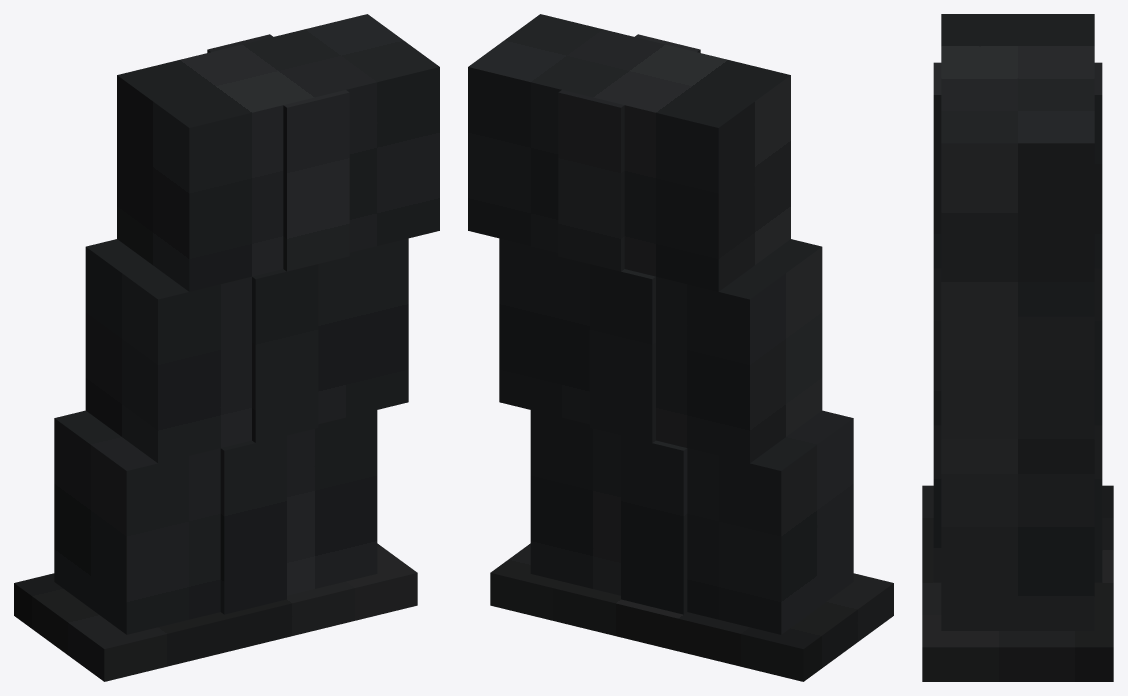
Rendered from SisimSv9_Magazine.glb.
3 views of the same model, side by side, from view 1: azimuth 30°, elevation 25°; view 2: azimuth 150°, elevation 25°; view 3: azimuth 270°, elevation 25° (orthographic). The views are drawn at different scales.
Parts seen in each view (by area): view 1: Magazine step 0, Magazine step 1, Magazine step 2, Magazine floor plate, Magazine rib 0 L, Magazine rib 2 L, Magazine rib 1 L; view 2: Magazine step 0, Magazine step 1, Magazine step 2, Magazine floor plate, Magazine rib 0 R, Magazine rib 2 R, Magazine rib 1 R; view 3: Magazine step 0, Magazine step 1, Magazine step 2, Magazine floor plate, Magazine rib 0 L, Magazine rib 0 R, Magazine rib 2 L, Magazine rib 2 R, Magazine rib 1 L, Magazine rib 1 R.
Part boxes in pixels (x1,y1,x2,y2): Magazine step 0: (117, 14, 439, 291); Magazine step 1: (85, 238, 408, 463); Magazine step 2: (54, 410, 377, 634); Magazine floor plate: (14, 543, 417, 681); Magazine rib 0 L: (283, 90, 349, 271); Magazine rib 2 L: (220, 435, 286, 614); Magazine rib 1 L: (252, 264, 318, 442); Magazine step 0: (468, 14, 790, 291); Magazine step 1: (499, 238, 822, 463); Magazine step 2: (530, 410, 853, 634); Magazine floor plate: (490, 543, 893, 681); Magazine rib 0 R: (558, 90, 624, 271); Magazine rib 2 R: (621, 435, 687, 614); Magazine rib 1 R: (589, 264, 655, 442); Magazine step 0: (941, 14, 1094, 316); Magazine step 1: (941, 316, 1094, 473); Magazine step 2: (941, 474, 1094, 630); Magazine floor plate: (922, 485, 1113, 681); Magazine rib 0 L: (933, 62, 941, 268); Magazine rib 0 R: (1094, 62, 1102, 268); Magazine rib 2 L: (933, 425, 941, 582); Magazine rib 2 R: (1094, 425, 1102, 582); Magazine rib 1 L: (933, 268, 941, 425); Magazine rib 1 R: (1094, 268, 1102, 425).
Size of the model in its own units: 0.0756 by 0.11 by 0.0344.
1 material, 1 textured.
